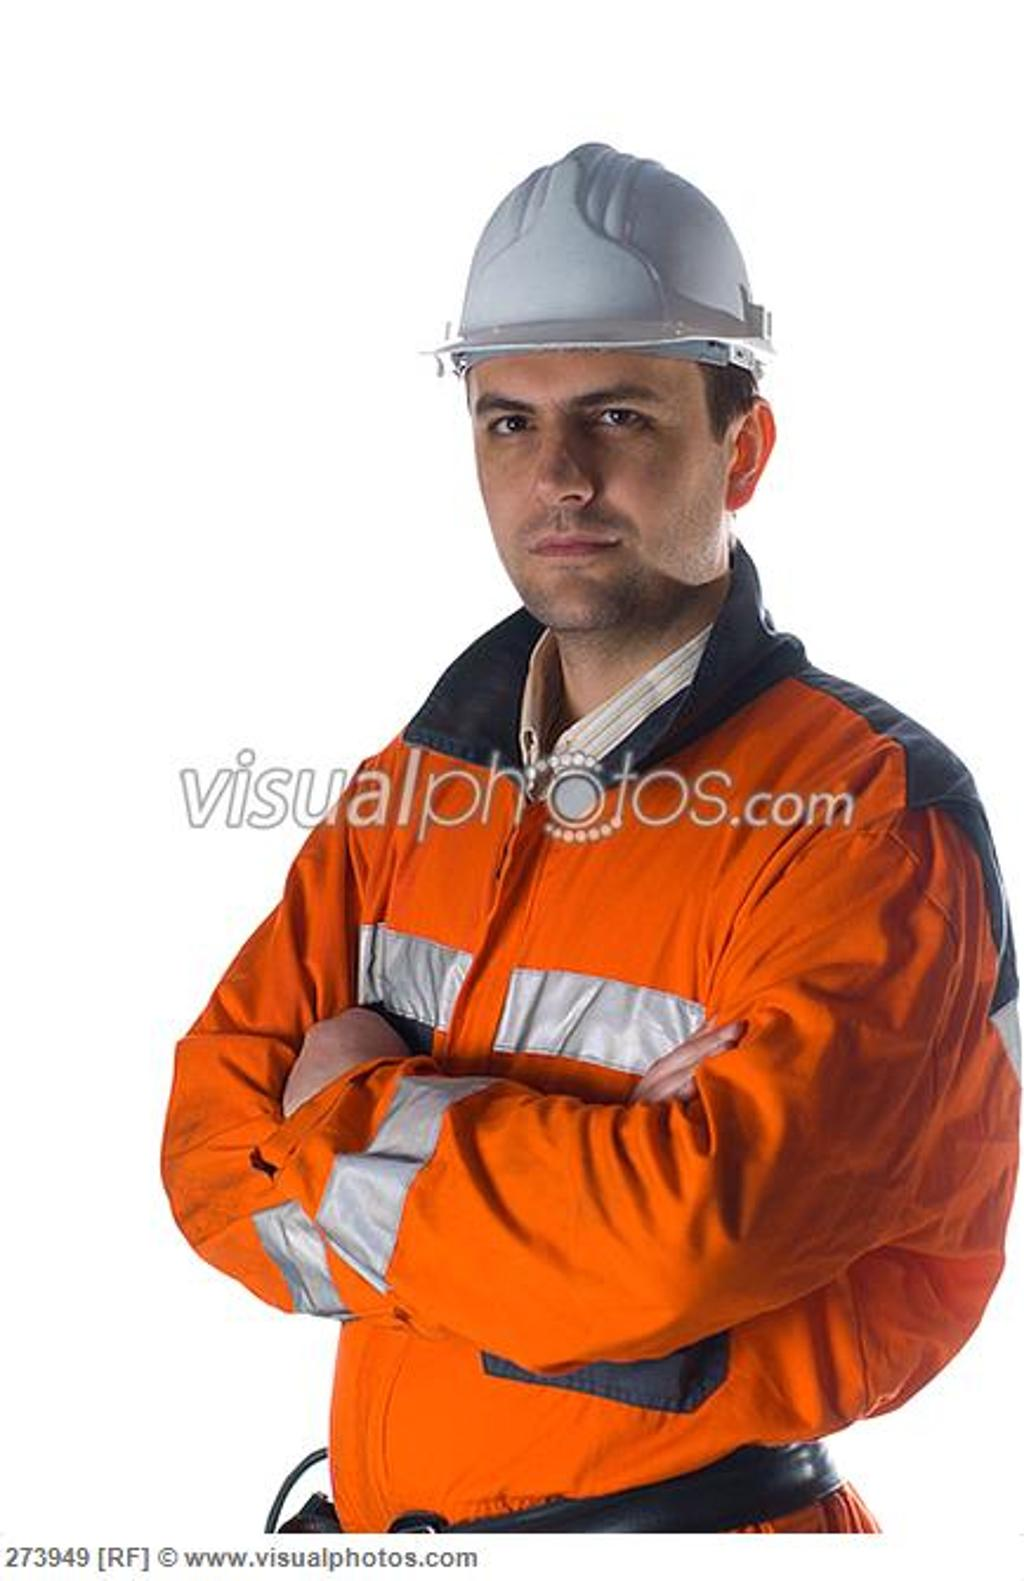face: (472, 284, 682, 599)
